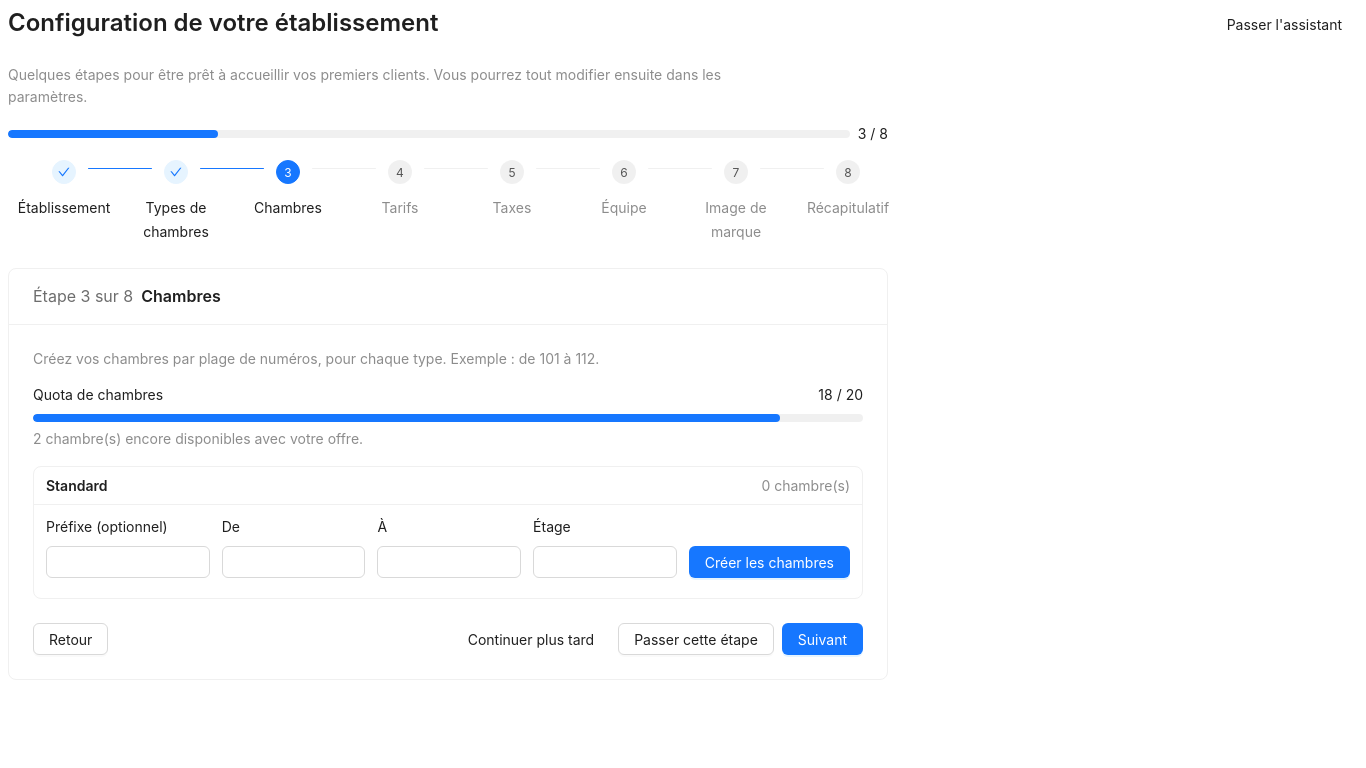
Test: onboarding wizard › shows the quota error returned by the bulk room creation
Expected: the text "Étape 3 sur 8" is shown, [33, 286, 133, 306]
Expected: the text "18 / 20" is shown, [818, 384, 863, 406]
In the number field labelled "De": [294, 562] box [223, 547, 364, 577], type "101"
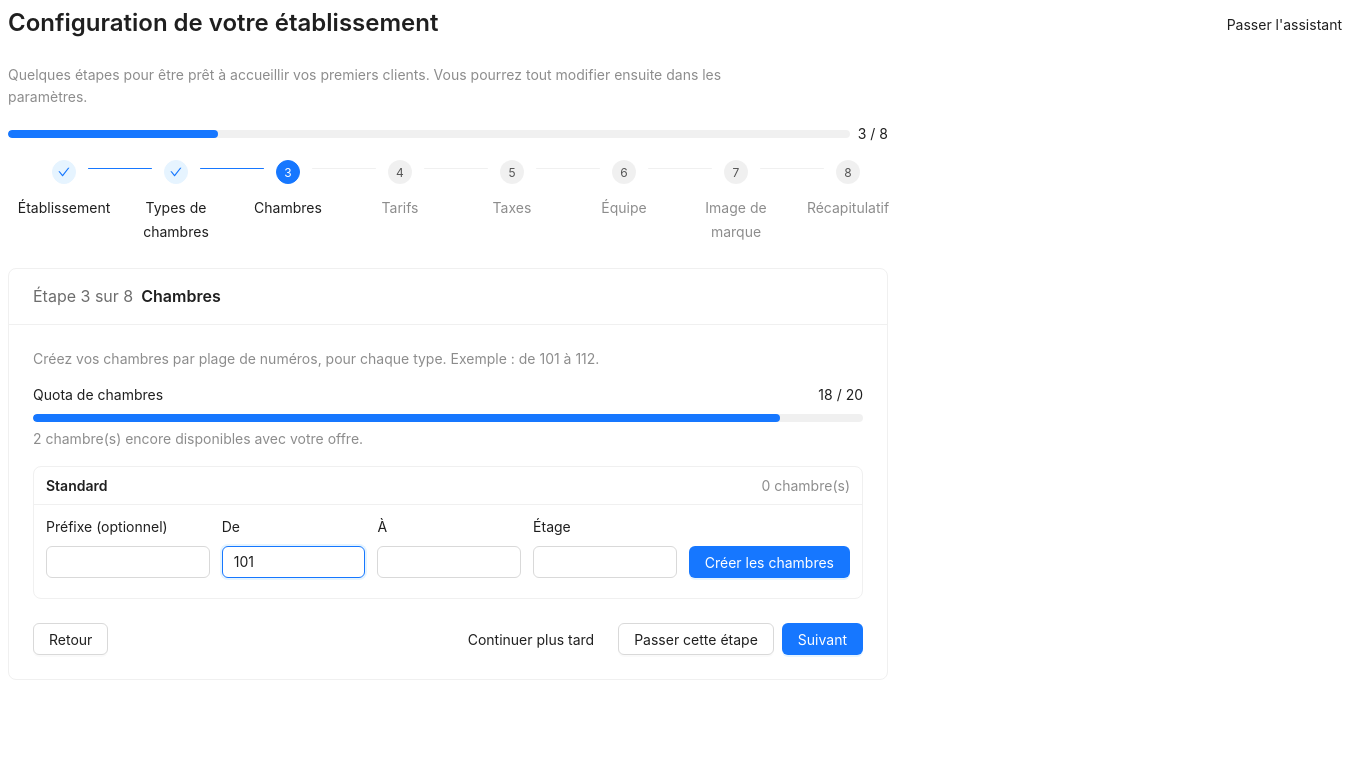
In the number field labelled "À": [449, 562] box [378, 547, 520, 577], type "105"
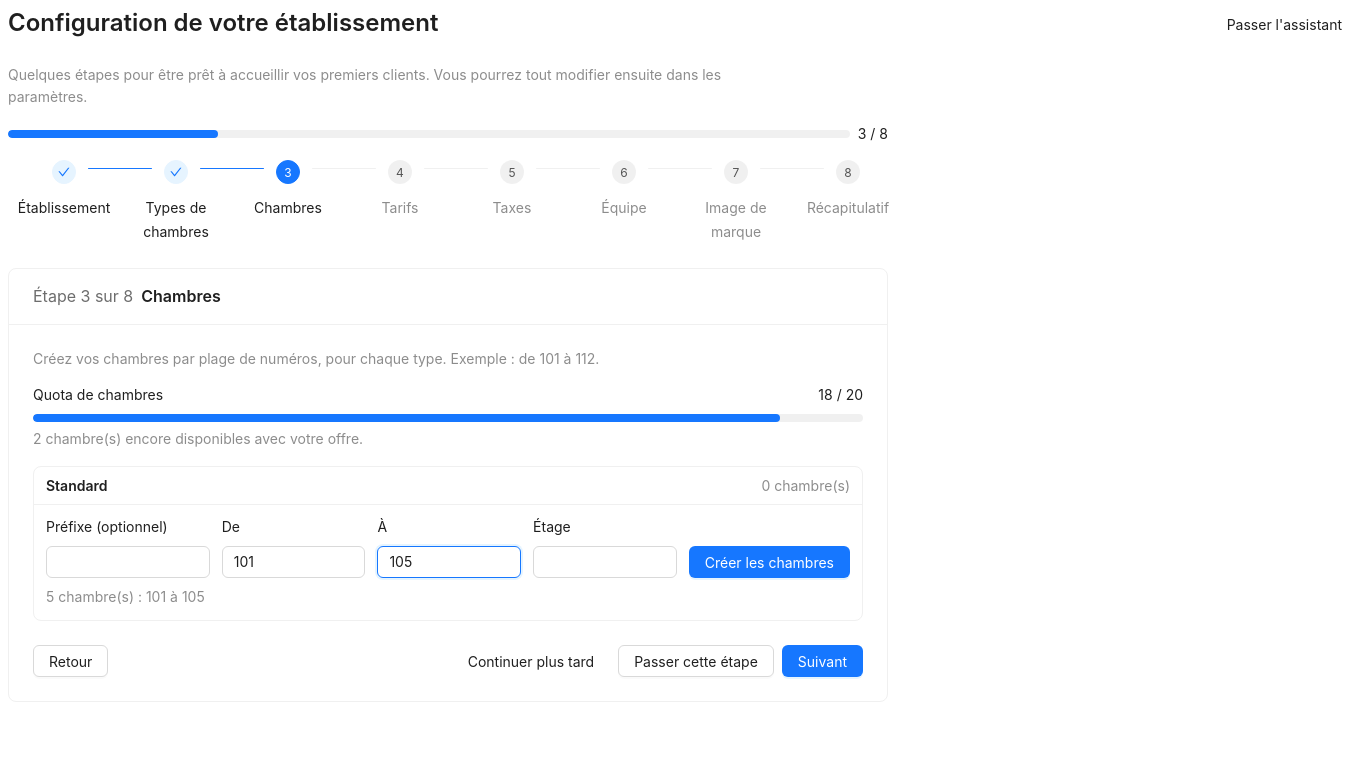
Click the button with aria-label "Créer les chambres Standard": [769, 562] box [689, 546, 850, 578]
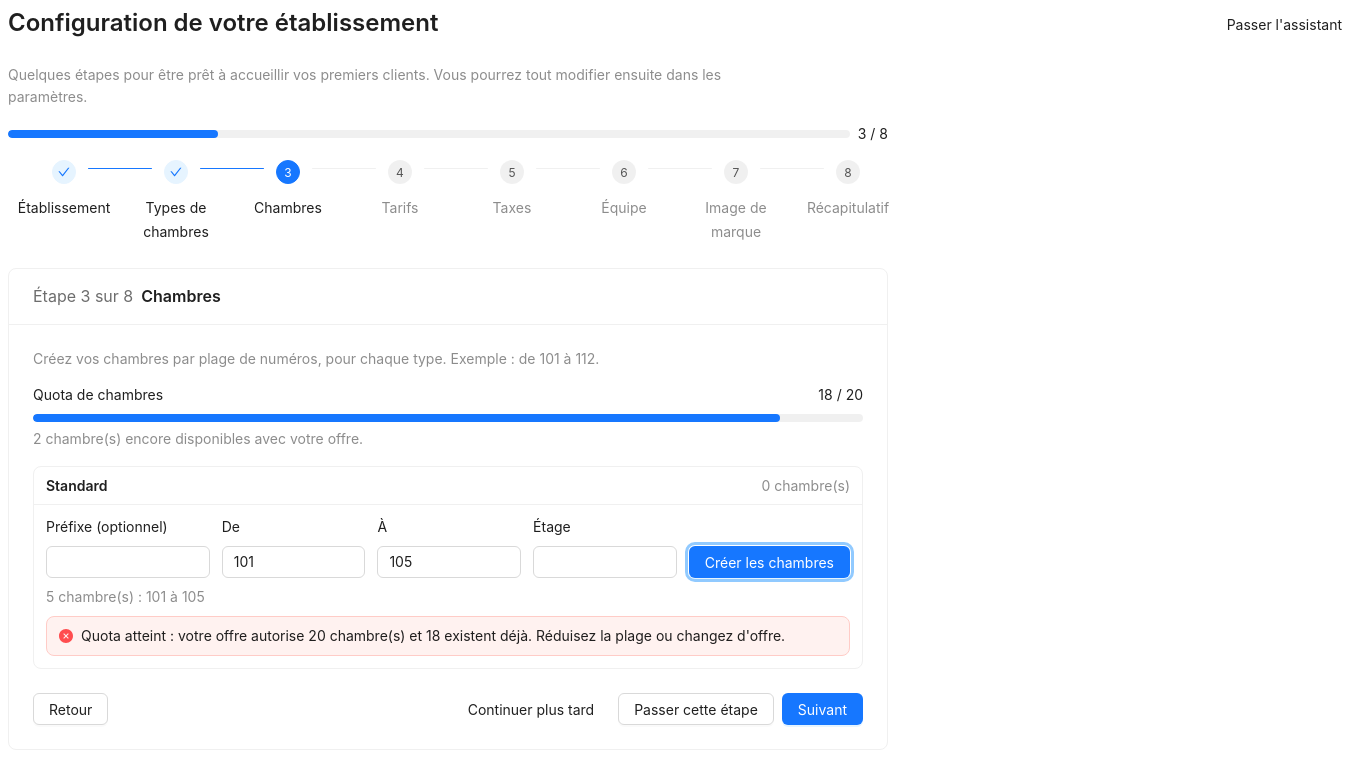
Result: the message shows "Quota atteint : votre offre autorise 20 chambre(s) et 18 existent déjà" at [81, 627, 785, 644]
